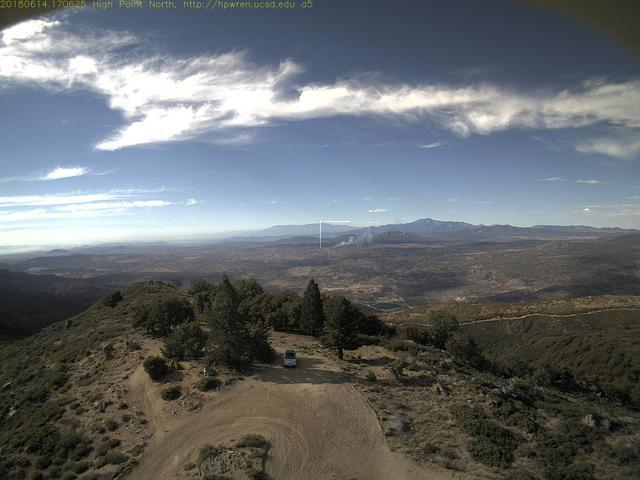smoke: (321, 223, 382, 250)
